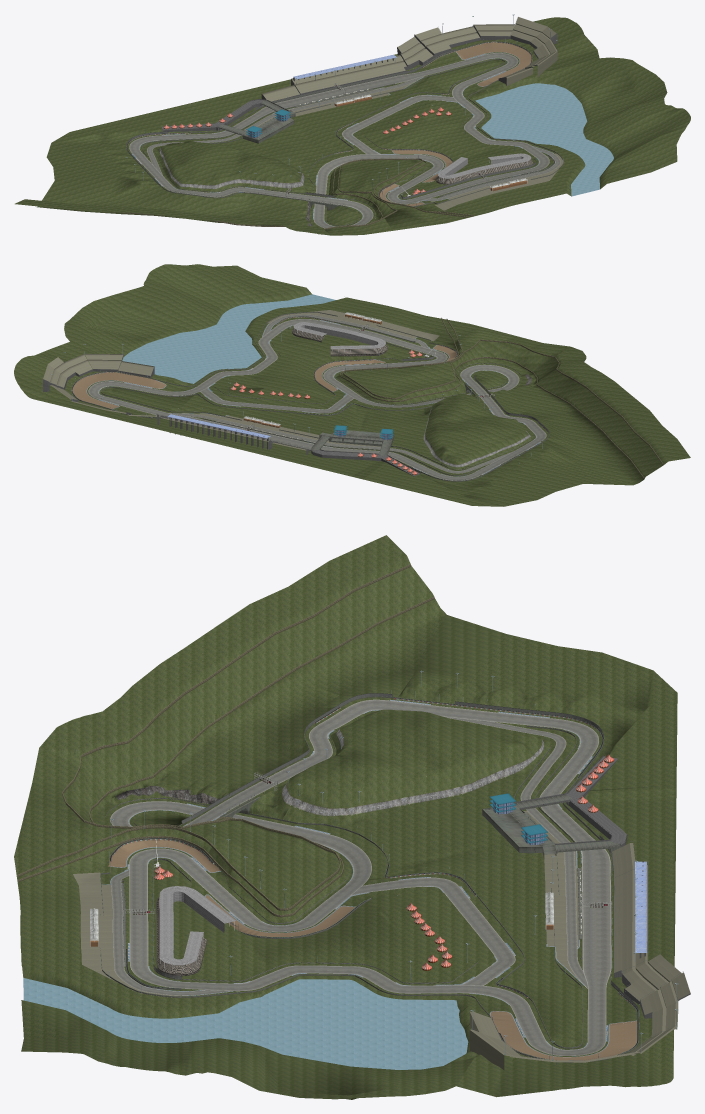
The model's file is race_track.gltf.
The picture shows the model from 3 angles, top to bottom: view 1: azimuth 30°, elevation 25°; view 2: azimuth 150°, elevation 25°; view 3: azimuth 270°, elevation 25°; orthographic projection. The views are drawn at different scales.
Visible parts, largest first — view 1: grass1_6, road_12, lake_8, step2_37, wall_60, sand2_19, sand1_18, stonewal_38, transparentwall_59, bluebump_0, roof1_15, fence1_4 (+6 smaller); view 2: grass1_6, road_12, lake_8, wall_60, step2_37, stonewal_38, sand2_19, sand1_18, transparentwall_59, roof1_15, bluebump_0, step1_36 (+6 smaller); view 3: grass1_6, road_12, lake_8, step2_37, wall_60, stonewal_38, sand2_19, sand1_18, roof1_15, rock2_14, bluebump_0, tirebump_58 (+7 smaller).
Part boxes in pixels (left/top/right/bottom): grass1_6: left=15, top=17, right=690, bottom=235; road_12: left=129, top=53, right=560, bottom=228; lake_8: left=475, top=83, right=613, bottom=196; step2_37: left=262, top=17, right=557, bottom=101; wall_60: left=126, top=41, right=563, bottom=210; sand2_19: left=241, top=79, right=563, bottom=210; sand1_18: left=379, top=42, right=532, bottom=206; stonewal_38: left=110, top=158, right=473, bottom=229; transparentwall_59: left=261, top=17, right=557, bottom=99; bluebump_0: left=132, top=51, right=555, bottom=226; roof1_15: left=438, top=153, right=531, bottom=178; fence1_4: left=126, top=49, right=536, bottom=205; grass1_6: left=14, top=264, right=690, bottom=506; road_12: left=88, top=314, right=546, bottom=480; lake_8: left=122, top=294, right=335, bottom=383; wall_60: left=71, top=311, right=549, bottom=481; step2_37: left=43, top=353, right=306, bottom=450; stonewal_38: left=340, top=317, right=662, bottom=478; sand2_19: left=179, top=310, right=439, bottom=447; sand1_18: left=72, top=345, right=456, bottom=408; transparentwall_59: left=43, top=354, right=310, bottom=454; roof1_15: left=293, top=322, right=385, bottom=349; bluebump_0: left=86, top=320, right=540, bottom=476; step1_36: left=292, top=328, right=387, bottom=356; grass1_6: left=14, top=535, right=677, bottom=1099; road_12: left=110, top=699, right=611, bottom=1055; lake_8: left=23, top=978, right=468, bottom=1069; step2_37: left=469, top=843, right=690, bottom=1069; wall_60: left=100, top=696, right=638, bottom=1062; stonewal_38: left=17, top=564, right=434, bottom=917; sand2_19: left=73, top=810, right=580, bottom=997; sand1_18: left=108, top=840, right=637, bottom=1060; roof1_15: left=159, top=886, right=235, bottom=965; rock2_14: left=281, top=728, right=544, bottom=816; bluebump_0: left=102, top=699, right=636, bottom=1057; tirebump_58: left=110, top=697, right=638, bottom=1060.
Bounding box in the file's own units: 936 × 49.73 × 495.
32 materials, 30 textured.
